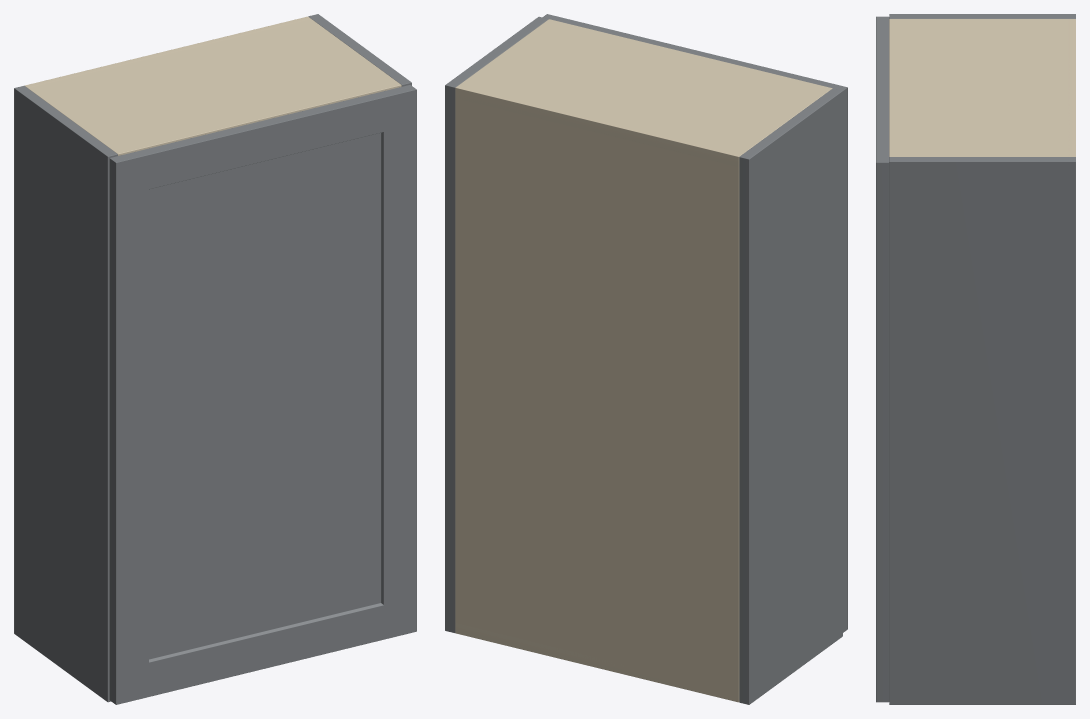
Rendered from oppein-ply-gss-w2136.glb.
3 renders of one model, left to right at view 1: azimuth 30°, elevation 25°; view 2: azimuth 150°, elevation 25°; view 3: azimuth 270°, elevation 25°, orthographic.
Parts seen in each view (by area): view 1: Door, Cabinet side, Cabinet top, Cabinet back, Cabinet side.001; view 2: Cabinet back, Cabinet side, Cabinet top, Cabinet side.001, Door, Cabinet bottom; view 3: Cabinet side.001, Cabinet top, Door, Cabinet back, Cabinet side.
Part boxes in pixels (box(x1,y1,x2,y2)): Door: box(109, 85, 416, 704); Cabinet side: box(14, 86, 117, 702); Cabinet top: box(24, 19, 401, 155); Cabinet back: box(25, 16, 310, 87); Cabinet side.001: box(308, 14, 411, 86); Cabinet back: box(455, 85, 741, 702); Cabinet side: box(739, 88, 842, 704); Cabinet top: box(455, 19, 832, 166); Cabinet side.001: box(445, 16, 548, 632); Door: box(542, 14, 847, 632); Cabinet bottom: box(455, 623, 739, 702); Cabinet side.001: box(889, 157, 1075, 704); Cabinet top: box(889, 19, 1075, 156); Door: box(876, 16, 889, 702); Cabinet back: box(1068, 19, 1075, 156); Cabinet side: box(889, 14, 1075, 18).
Bounding box in the file's own units: 0.5334 × 0.9144 × 0.3048.
